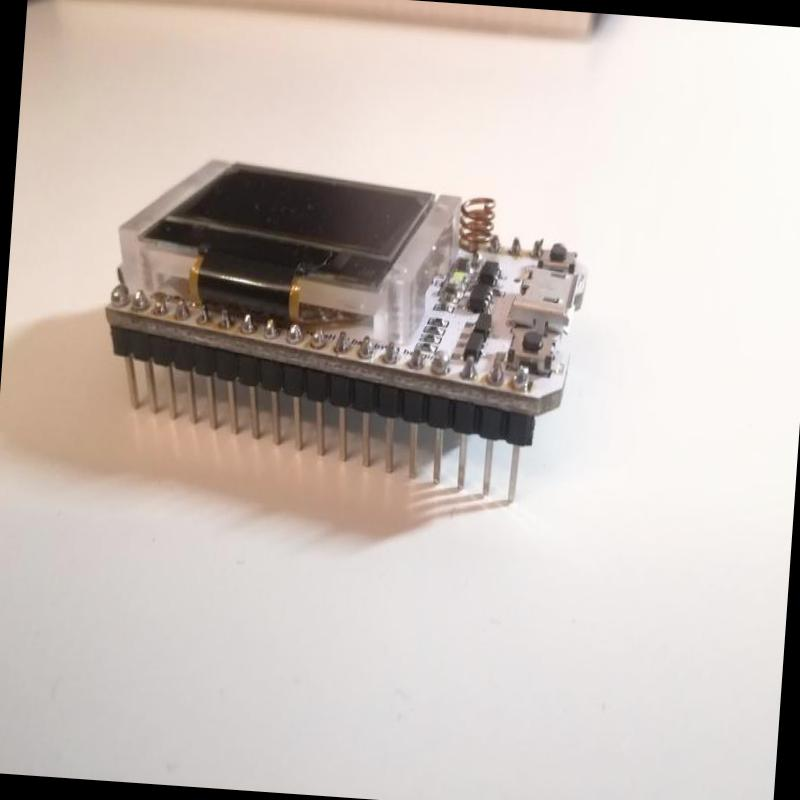Heltec_ESP32_Lora: (92, 137, 604, 513)
